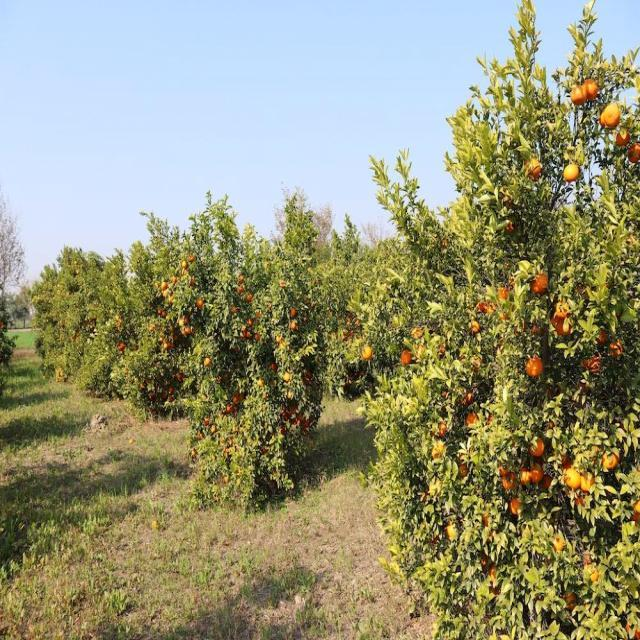Jeruk Sudah Matang: (524, 157, 540, 180), (602, 451, 620, 469), (532, 274, 548, 294), (570, 86, 587, 104), (564, 469, 580, 488), (606, 104, 620, 125), (526, 358, 542, 376), (583, 79, 597, 99), (502, 472, 517, 490), (563, 164, 579, 180), (581, 472, 595, 490), (626, 622, 640, 640), (627, 143, 640, 162), (428, 478, 441, 497), (530, 441, 544, 457), (558, 318, 570, 336), (616, 130, 629, 146), (584, 357, 600, 370), (556, 301, 568, 318), (586, 565, 598, 582), (446, 522, 457, 540), (432, 442, 443, 460), (530, 466, 542, 482), (552, 536, 564, 552), (564, 594, 576, 610), (510, 496, 520, 514), (484, 301, 496, 315), (466, 412, 478, 426), (488, 566, 497, 584), (610, 343, 622, 356), (574, 494, 586, 507), (458, 462, 468, 477), (436, 420, 446, 435), (498, 462, 510, 474), (468, 320, 479, 333), (520, 471, 530, 484), (400, 351, 410, 364), (362, 347, 372, 360), (600, 110, 608, 126), (498, 288, 508, 300), (542, 476, 552, 488), (632, 513, 640, 527), (482, 515, 490, 529), (473, 356, 481, 370), (412, 328, 422, 339), (597, 331, 606, 343), (633, 499, 640, 514), (506, 218, 514, 230), (464, 393, 472, 404), (552, 318, 560, 327), (283, 373, 290, 383), (416, 346, 424, 354), (203, 358, 210, 366), (291, 307, 296, 317), (289, 322, 295, 329), (258, 379, 264, 386), (161, 283, 167, 290), (247, 294, 252, 302), (238, 285, 243, 293), (198, 299, 203, 307), (179, 318, 184, 326), (182, 268, 187, 276), (276, 336, 282, 342), (238, 276, 244, 282), (210, 427, 216, 433), (186, 327, 192, 333), (189, 256, 194, 263), (172, 276, 177, 283), (248, 318, 252, 326), (182, 260, 186, 268), (184, 316, 188, 324), (204, 419, 209, 425), (232, 307, 236, 313), (233, 396, 237, 402), (246, 331, 250, 337), (272, 364, 276, 370), (162, 311, 166, 317), (158, 309, 162, 314), (227, 406, 230, 412)
